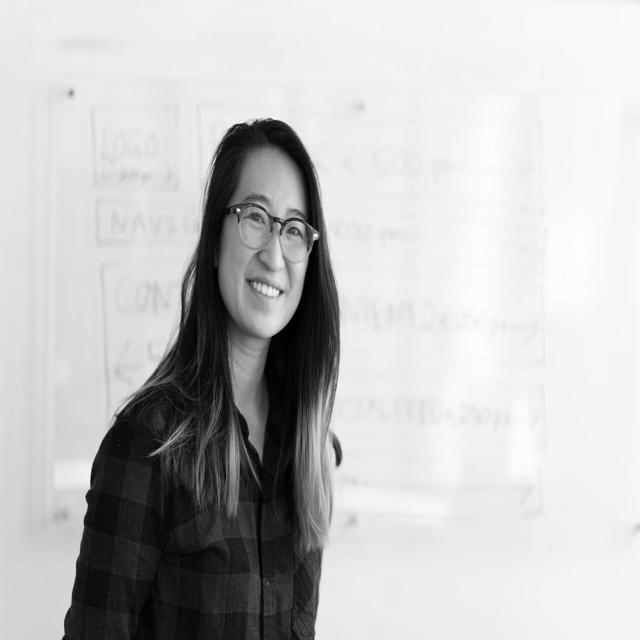Happiness: (212, 140, 316, 345)
